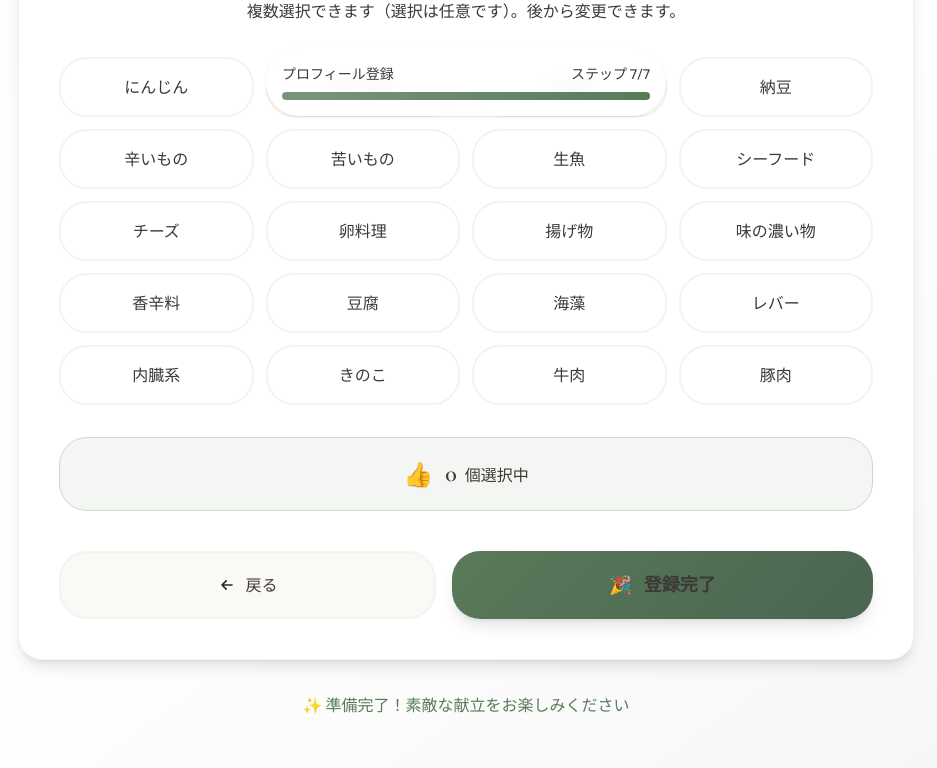
Test: ProfileStep3Part2 › 通信エラー時にメッセージが表示される
The image size is (937, 768).
(page scrolled)
Step 1. Click the text "登録完了" → [680, 585], box [644,571,716,599]
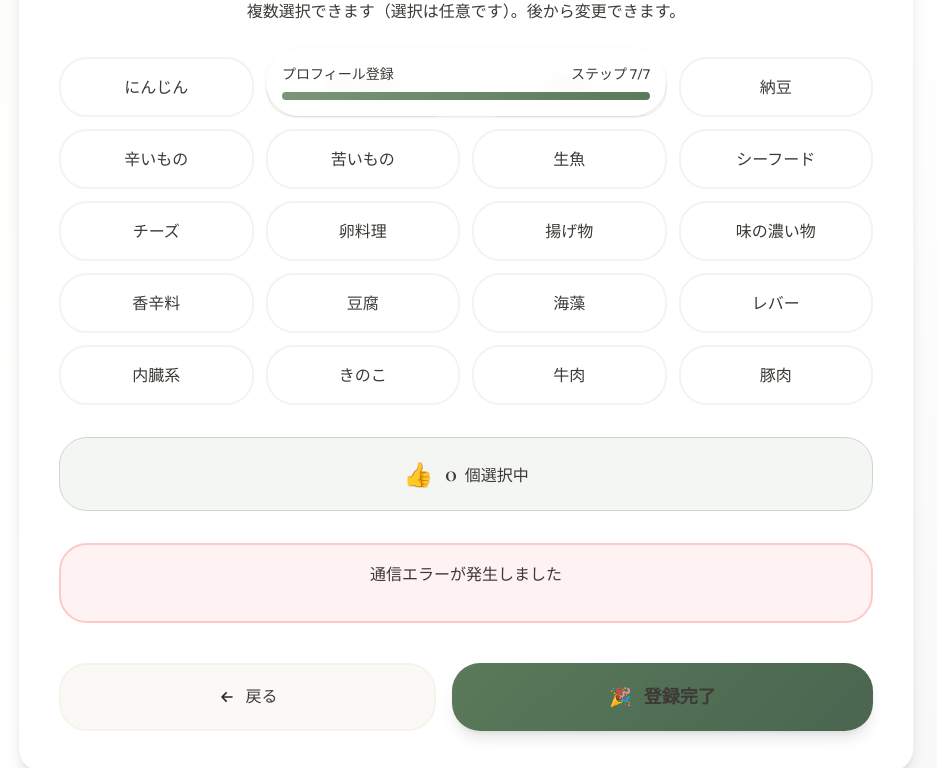
Expected: the text "通信エラーが発生しました" is shown, [370,564,562,584]
